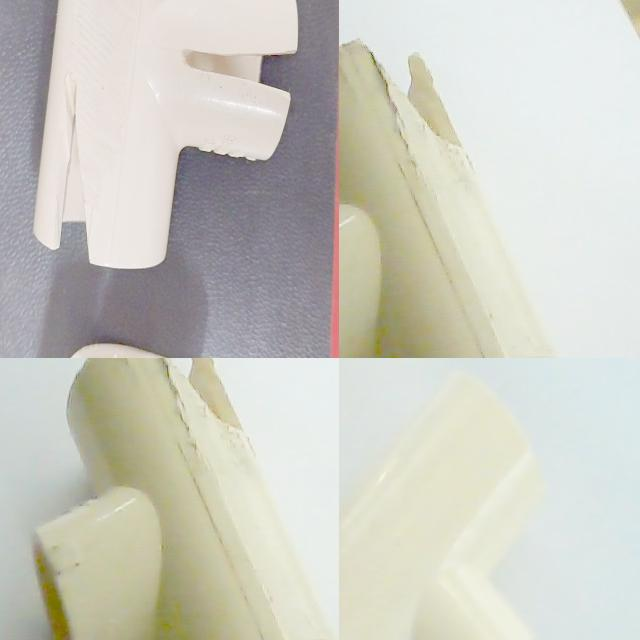Defective: (360, 38, 468, 150), (137, 358, 248, 436), (62, 271, 196, 335), (34, 4, 83, 156)
T Joint: (35, 358, 338, 640), (0, 0, 204, 347), (339, 40, 559, 358), (339, 370, 547, 640), (252, 78, 306, 328)
